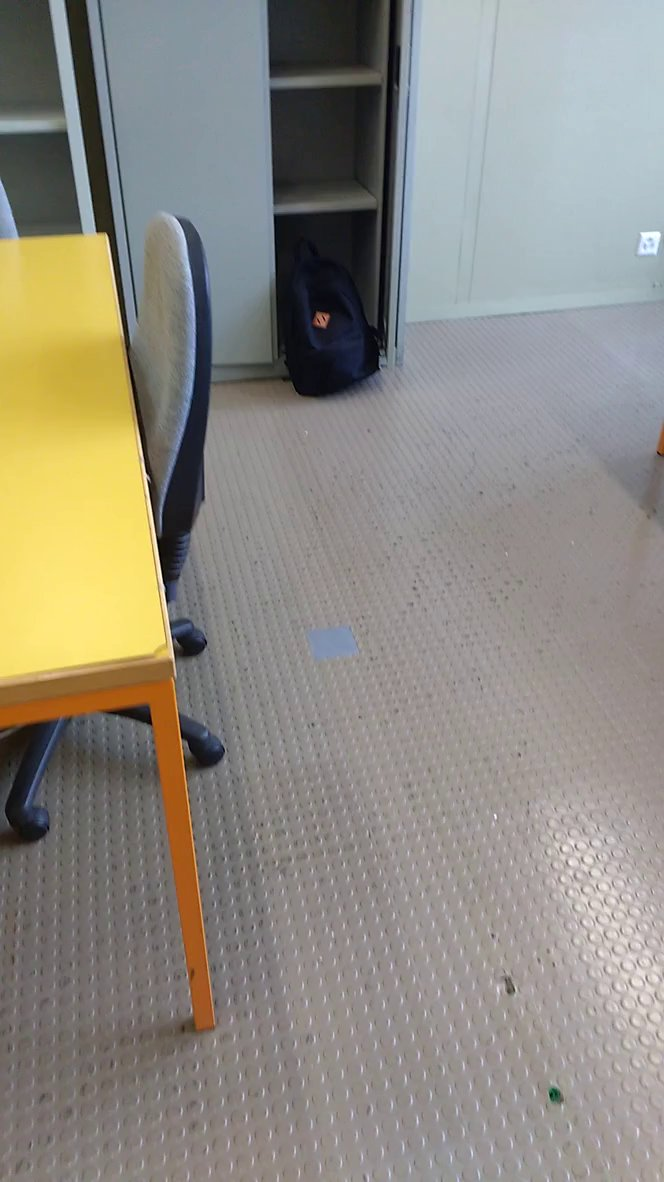bag: (260, 226, 390, 402)
chair: (107, 197, 226, 689)
